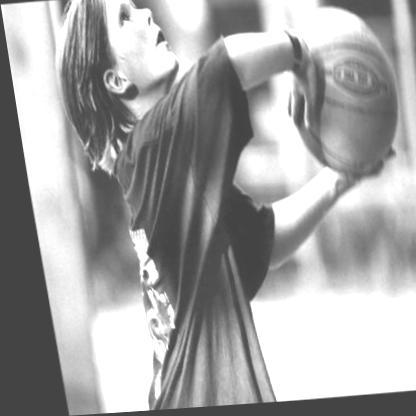basketball: (266, 11, 406, 185)
